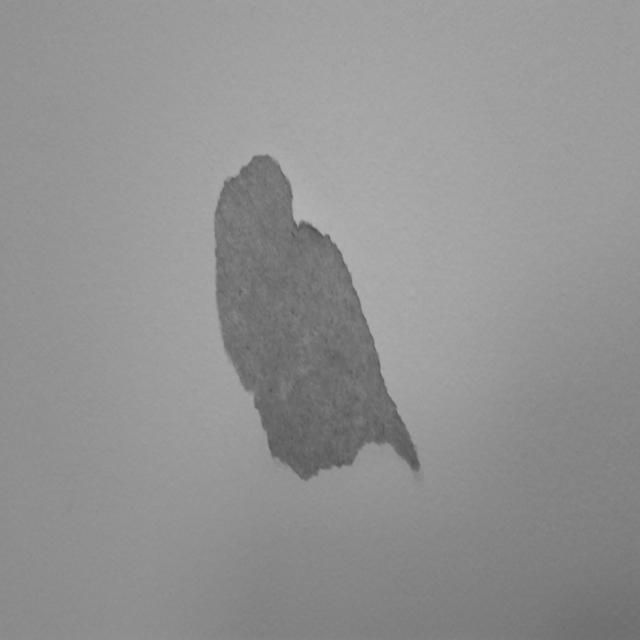peeling paint: (176, 95, 446, 538)
